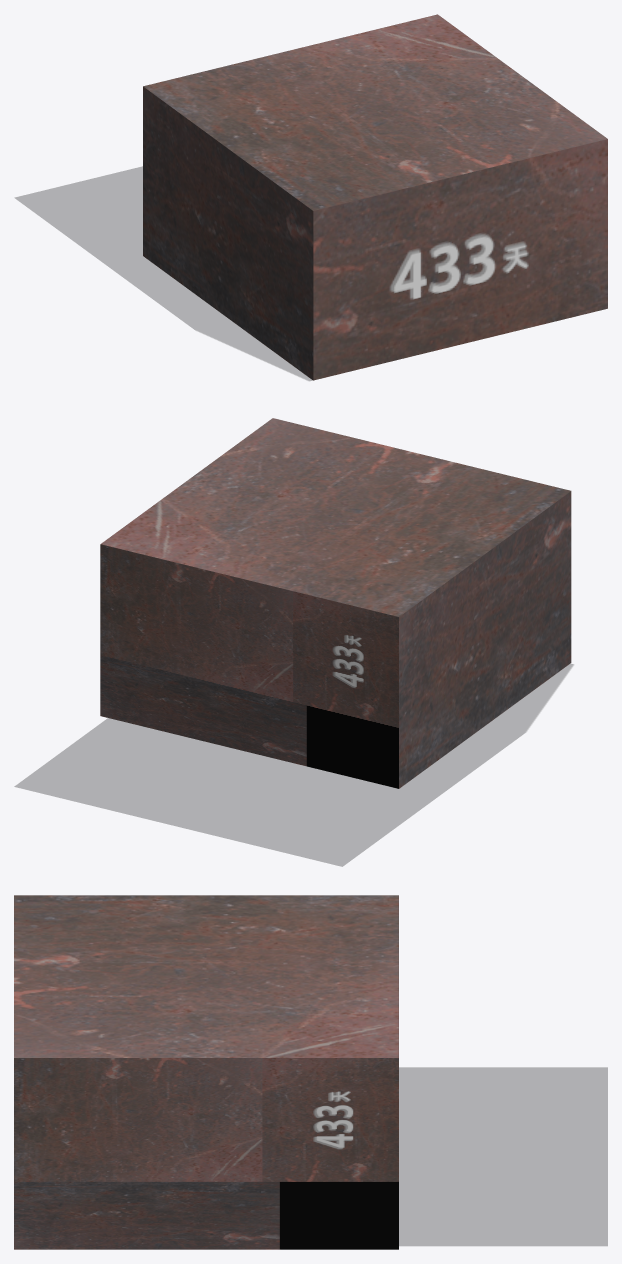
The model's file is block_14.glb.
The picture shows the model from 3 angles, top to bottom: view 1: azimuth 30°, elevation 25°; view 2: azimuth 150°, elevation 25°; view 3: azimuth 270°, elevation 25°; orthographic projection. The views are drawn at different scales.
Visible parts, largest first — view 1: hitObj, block; view 2: hitObj, block; view 3: hitObj, block.
Part boxes in pixels (x1,y1,x2,y2): hitObj: (143,14,607,380); block: (15,166,312,380); hitObj: (100,418,571,788); block: (14,664,573,866); hitObj: (14,895,398,1249); block: (399,1067,607,1245).
Size of the model in its own units: 11.24 by 5.51 by 15.43.
Materials: 2 (2 with a texture image).
